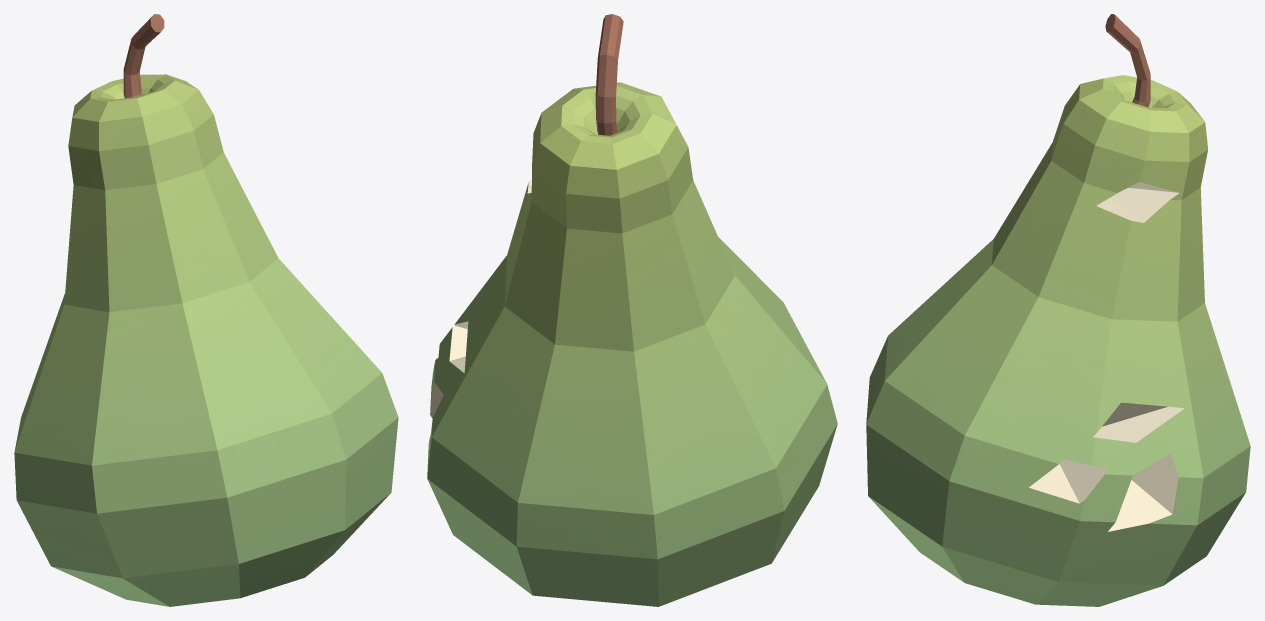
File: SM_Punctured_Pear02.fbx
3 renders of one model, left to right at view 1: azimuth 30°, elevation 25°; view 2: azimuth 150°, elevation 25°; view 3: azimuth 270°, elevation 25°, orthographic. The views are drawn at different scales.
Parts seen in each view (by area): view 1: SM_Punctured_Pear02; view 2: SM_Punctured_Pear02; view 3: SM_Punctured_Pear02.
Boxes of the visible parts, x1,y1,x2,y2 form: SM_Punctured_Pear02: [14, 14, 398, 606]; SM_Punctured_Pear02: [427, 14, 837, 606]; SM_Punctured_Pear02: [866, 14, 1250, 606].
Size of the model in its own units: 0.0706 by 0.0688 by 0.1105.
